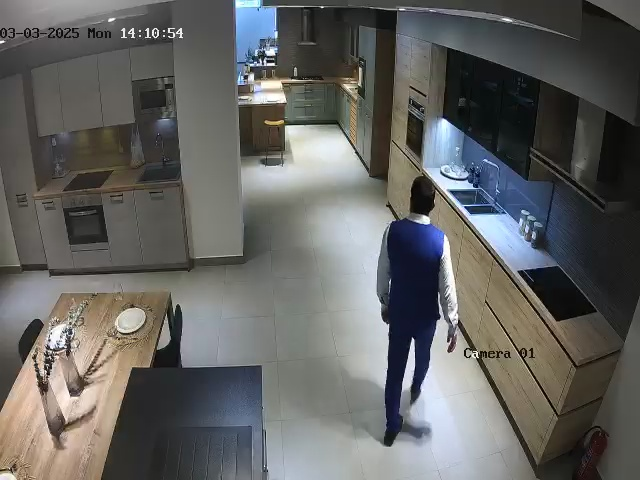employee: (376, 175, 459, 447)
